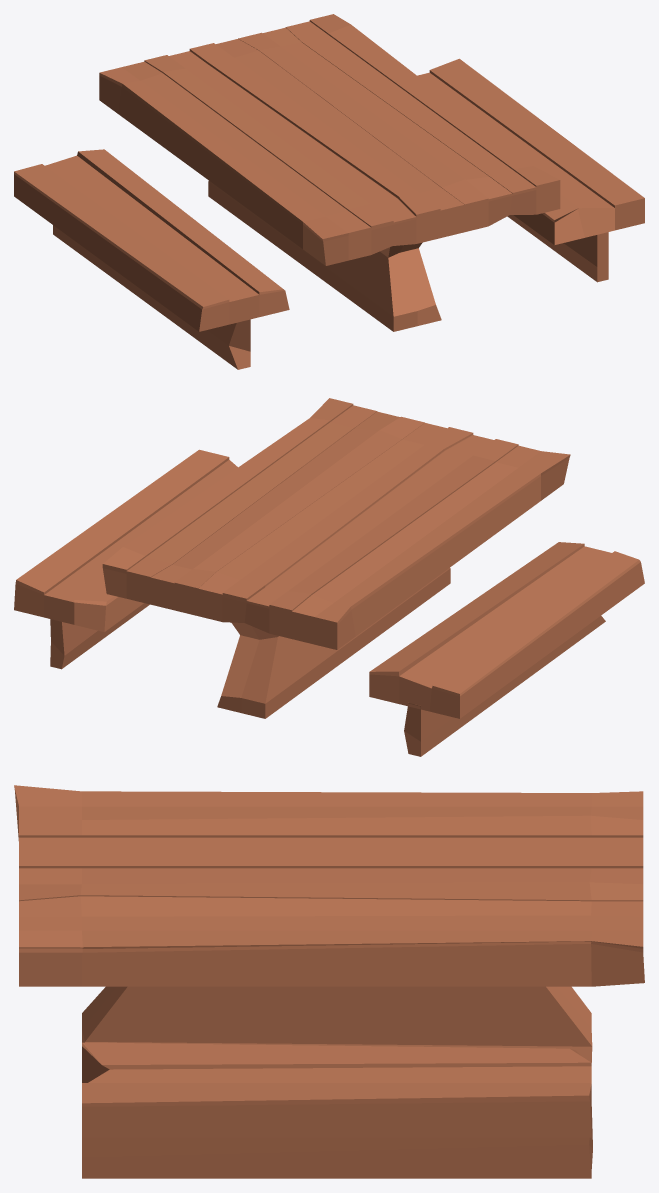
The model's file is picnic table.obj.
The picture shows the model from 3 angles, top to bottom: view 1: azimuth 30°, elevation 25°; view 2: azimuth 150°, elevation 25°; view 3: azimuth 270°, elevation 25°; orthographic projection. The views are drawn at different scales.
Parts seen in each view (by area): view 1: picnic_table; view 2: picnic_table; view 3: picnic_table.
Part boxes in pixels (x1=…): picnic_table: x1=14, y1=14, x2=644, y2=369; picnic_table: x1=14, y1=398, x2=644, y2=756; picnic_table: x1=14, y1=785, x2=644, y2=1178.
Bounding box in the file's own units: 1.84 × 0.5399 × 1.63.
